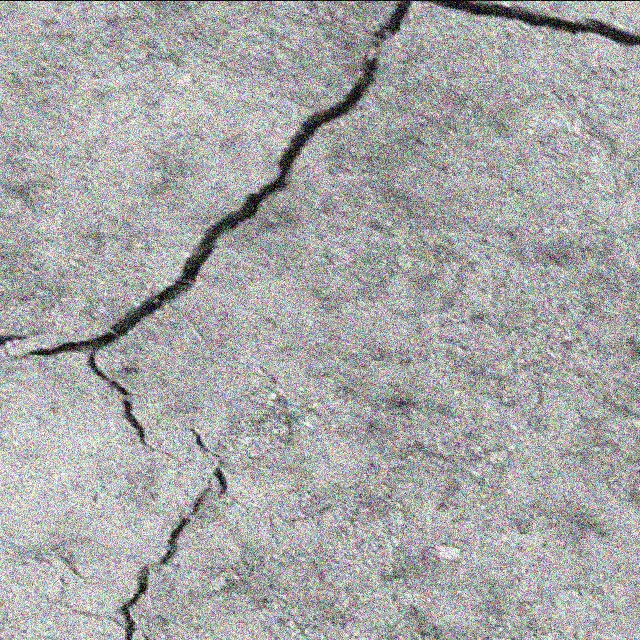SurfaceCrack: (2, 0, 507, 640)
